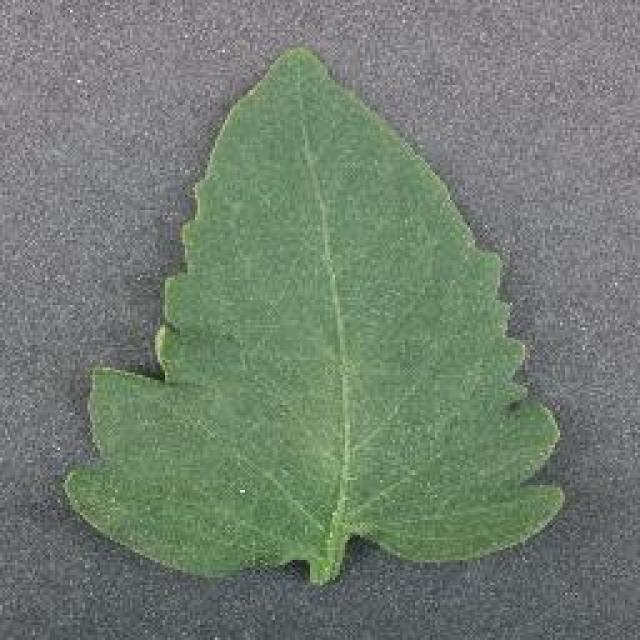Tomato_Healthy: (57, 36, 575, 577)
